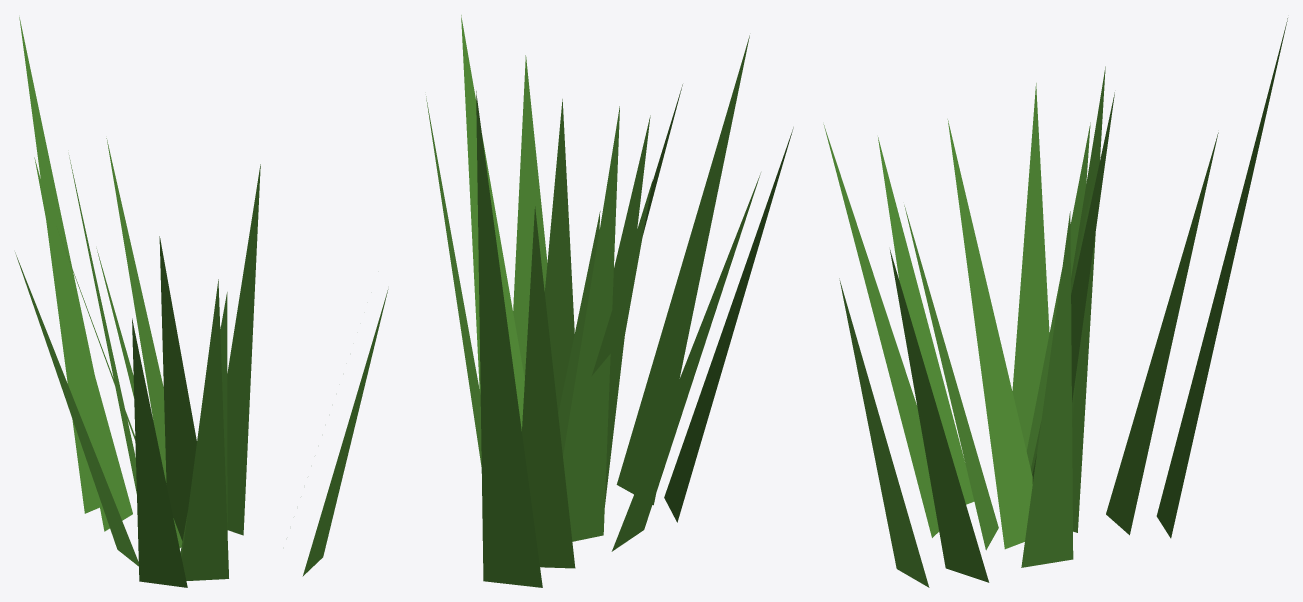
Rendered from grass_tuft.glb.
3 views of the same model, side by side, from view 1: azimuth 30°, elevation 25°; view 2: azimuth 150°, elevation 25°; view 3: azimuth 270°, elevation 25° (orthographic). The views are drawn at different scales.
Visible parts, largest first — view 1: grass_tuft; view 2: grass_tuft; view 3: grass_tuft.
Part boxes in pixels (box(x1,y1,x2,y2)): grass_tuft: box(15, 17, 388, 587); grass_tuft: box(426, 15, 793, 587); grass_tuft: box(823, 18, 1287, 587).
Bounding box in the file's own units: 0.5018 × 0.694 × 0.5867.
